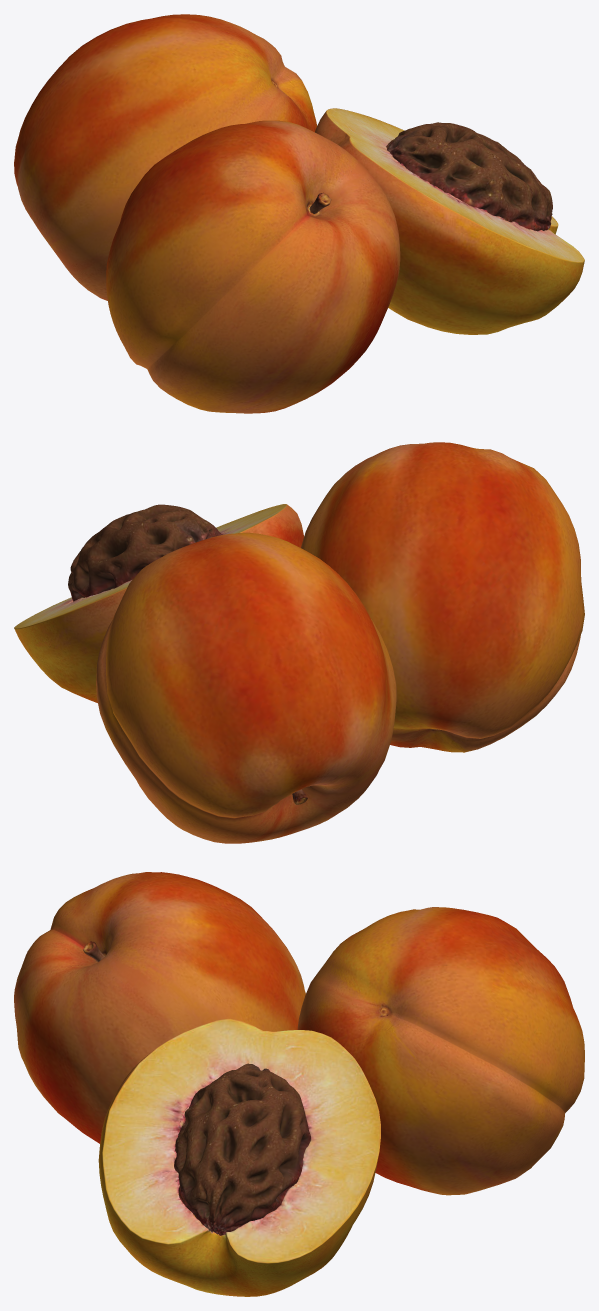
File: Shaftoli.fbx
3 renders of one model, top to bottom at view 1: azimuth 30°, elevation 25°; view 2: azimuth 150°, elevation 25°; view 3: azimuth 270°, elevation 25°, orthographic. The views are drawn at different scales.
Visible parts, largest first — view 1: Open3DModel (1) (7); view 2: Open3DModel (1) (7); view 3: Open3DModel (1) (7).
Part boxes in pixels (left/top/right/bottom): Open3DModel (1) (7): left=14, top=14, right=584, bottom=413; Open3DModel (1) (7): left=14, top=442, right=584, bottom=843; Open3DModel (1) (7): left=14, top=872, right=584, bottom=1296.
Bounding box in the file's own units: 640 × 356 × 666.
1 material, 1 textured.
